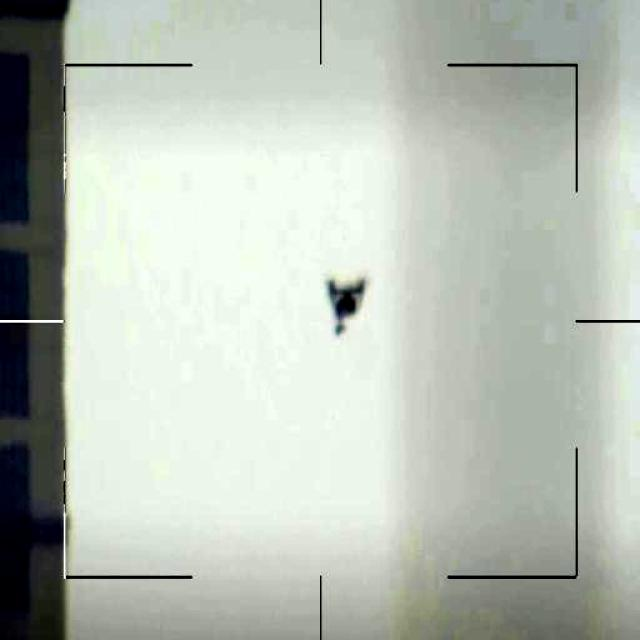bird: (319, 265, 375, 342)
